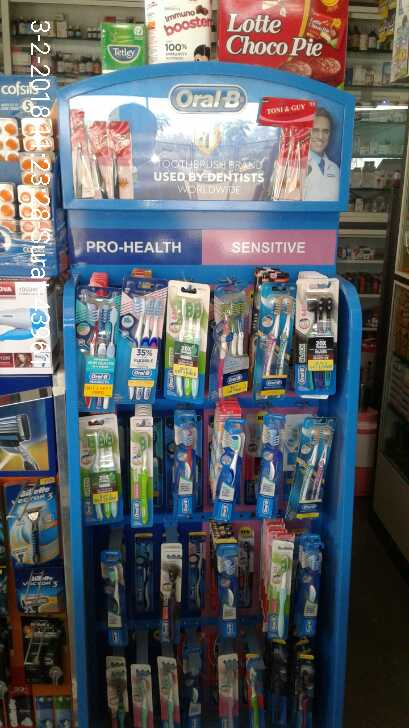beauty: (6, 486, 64, 564)
pharmacy: (116, 280, 169, 404), (212, 283, 258, 403), (75, 282, 116, 415), (167, 283, 209, 407), (301, 280, 340, 404), (256, 286, 293, 402), (77, 421, 119, 523), (291, 419, 333, 517), (167, 415, 203, 523), (125, 417, 155, 535), (99, 552, 132, 645), (213, 413, 240, 524), (212, 546, 244, 638), (155, 546, 188, 634), (255, 419, 284, 517), (301, 541, 328, 634), (268, 541, 287, 646)
